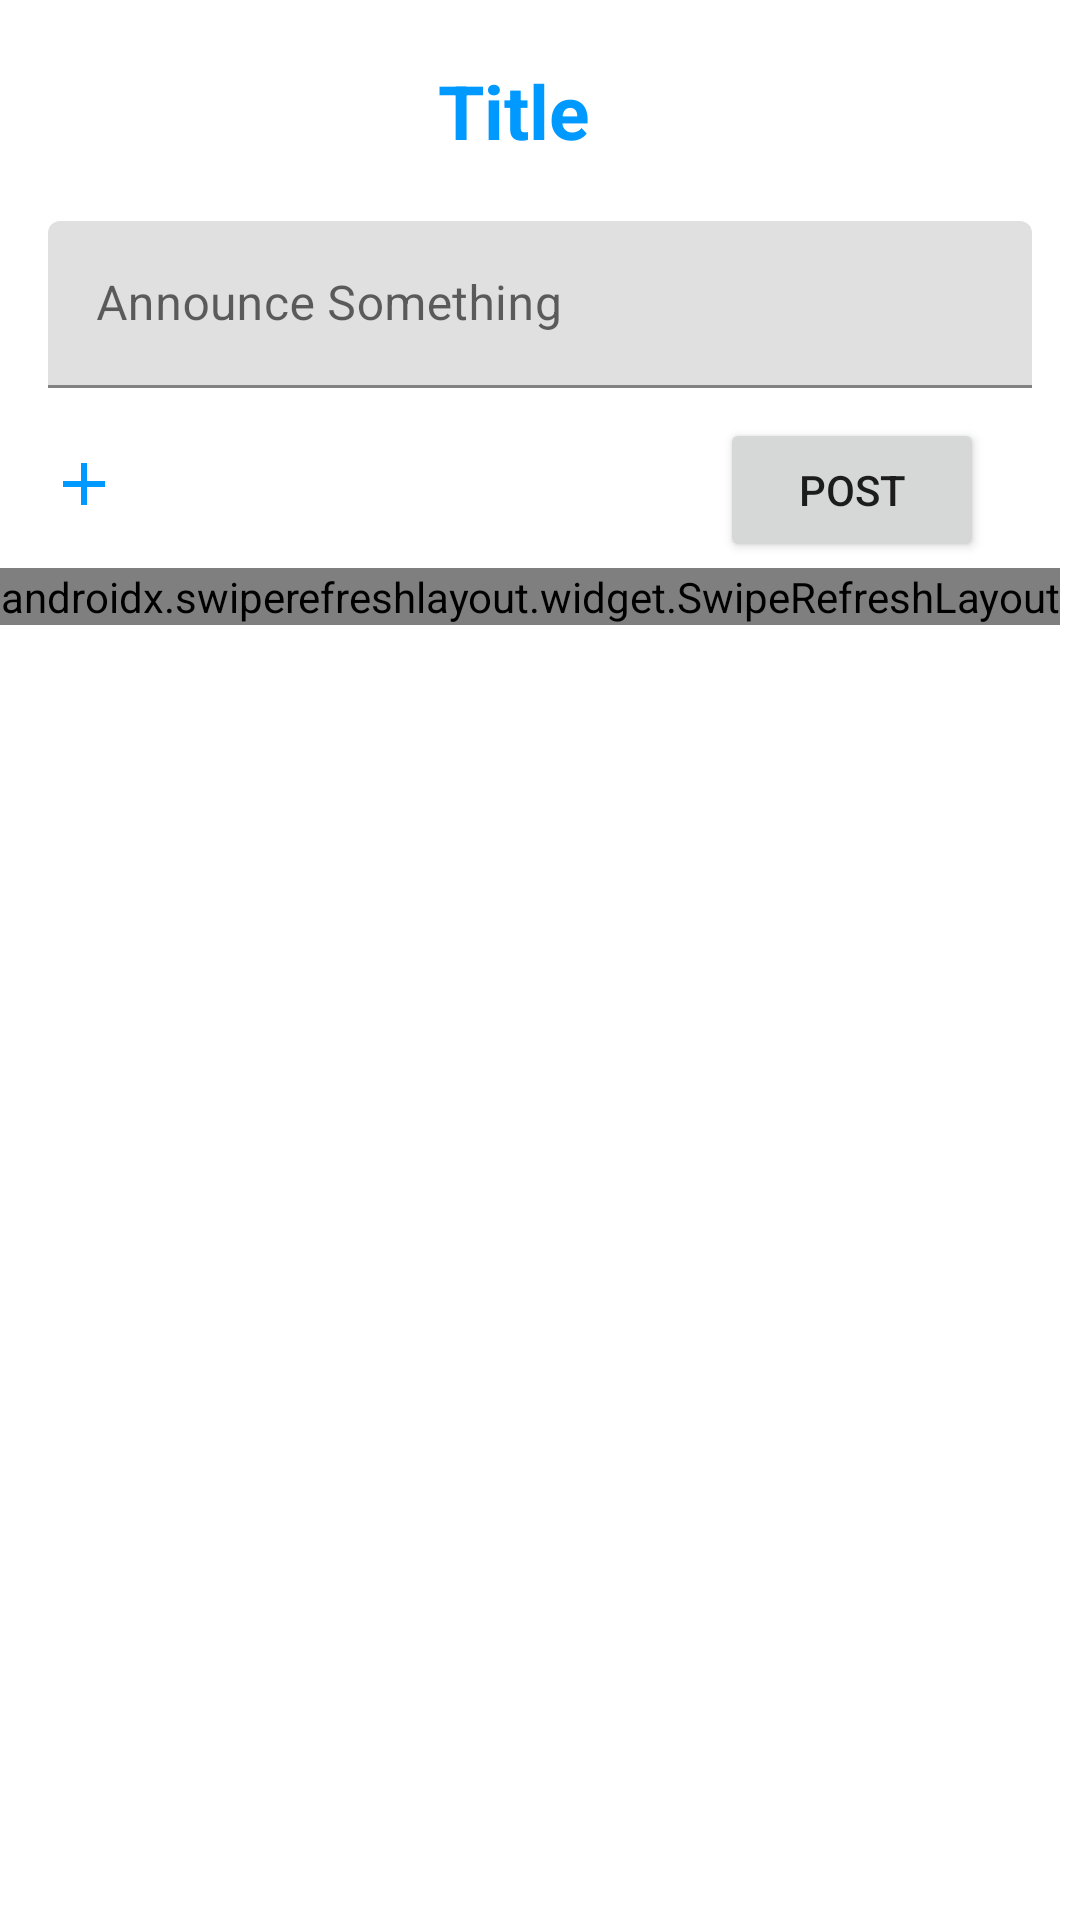

Icon click points for this 1080px×1920px phone screenshot, format point (x, y):
add file: point (84, 484)
